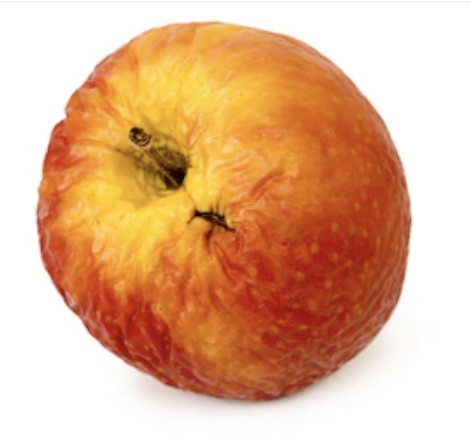rotten_apple: (36, 21, 411, 399)
